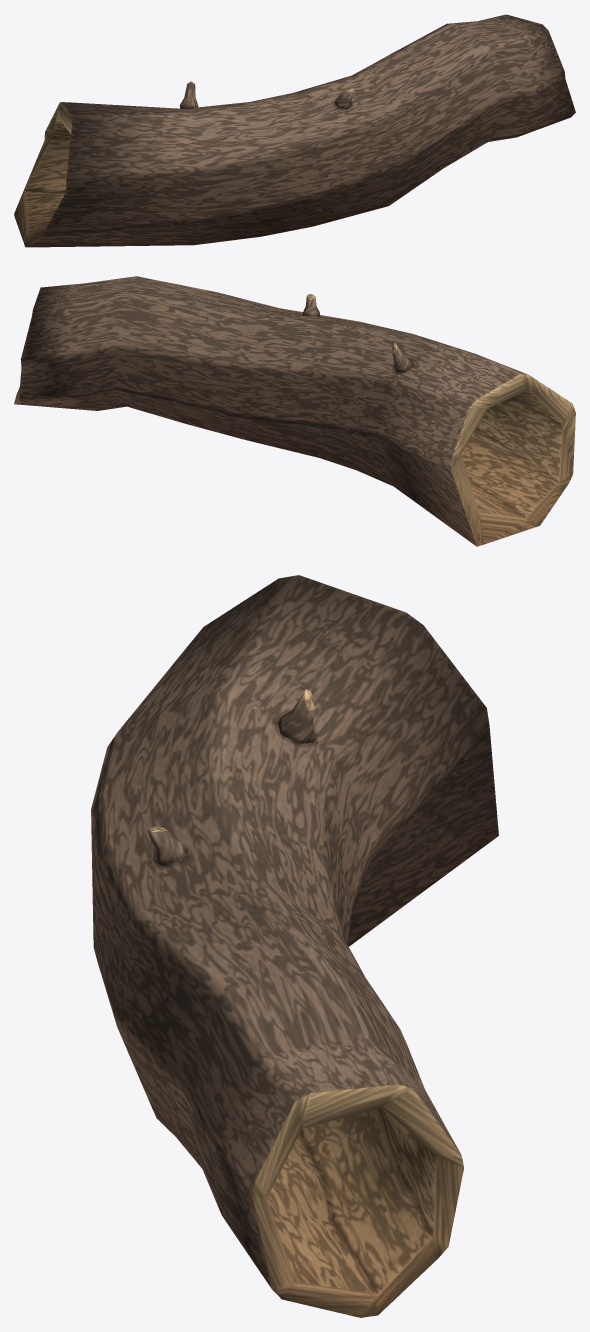
File: log_3.glb
3 renders of one model, top to bottom at view 1: azimuth 30°, elevation 25°; view 2: azimuth 150°, elevation 25°; view 3: azimuth 270°, elevation 25°, orthographic. The views are drawn at different scales.
Visible parts, largest first — view 1: log_3; view 2: log_3; view 3: log_3.
Part boxes in pixels (x1,y1,x2,y2): log_3: [14, 14, 575, 247]; log_3: [14, 276, 575, 546]; log_3: [91, 575, 498, 1317].
Bounding box in the file's own units: 6.4 × 1.55 × 2.1.
Materials: 2 (2 with a texture image).
